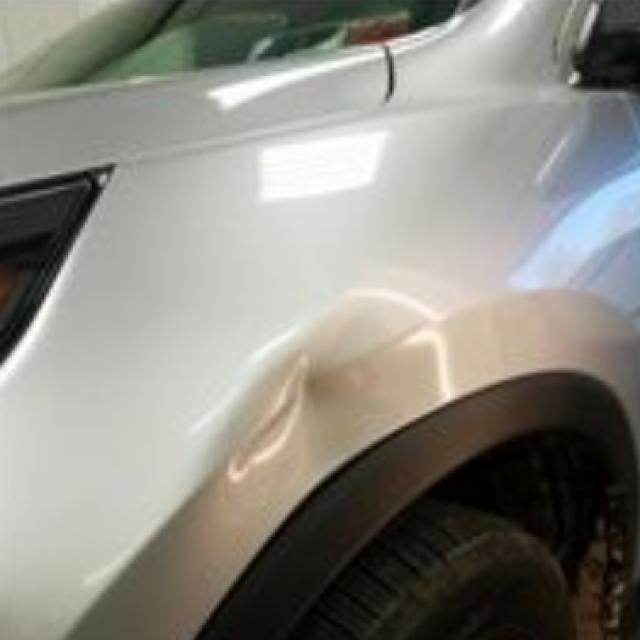dents: (192, 300, 416, 490)
